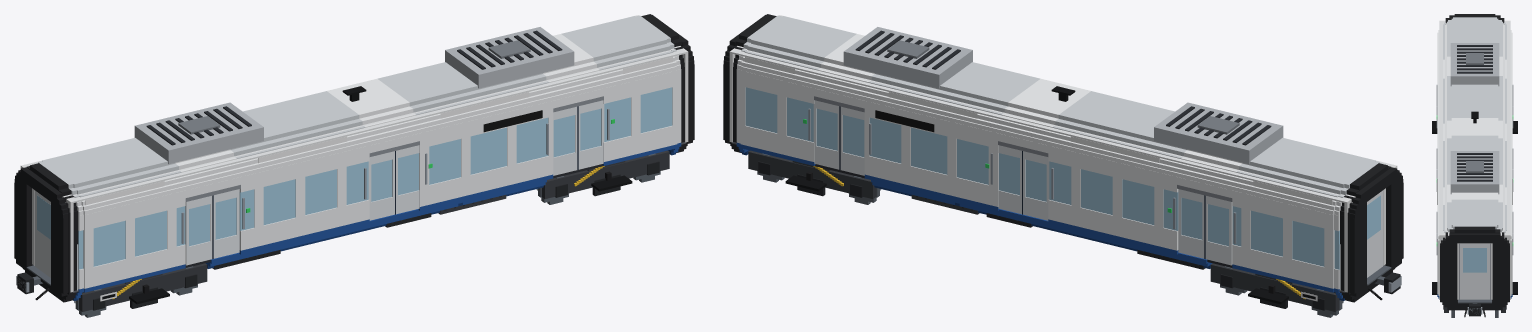
Rendered from azur_car.obj.
3 renders of one model, left to right at view 1: azimuth 30°, elevation 25°; view 2: azimuth 150°, elevation 25°; view 3: azimuth 270°, elevation 25°, orthographic. The views are drawn at different scales.
Parts seen in each view (by area): view 1: SHELL, SHELL_roof, SHELL_diaphragm, SHELL_ceiling, BOGEY_FRONT, BOGEY_REAR, EXTERNAL_DOOR_4_CG_DR1_TOGGLE_TL_-0.67_X, SHELL_ad, EXTERNAL_DOOR_10_CG_DR2_TOGGLE_TL_-0.67_X, EXTERNAL_DOOR_5_CG_DR1_TOGGLE_TL_0.67_X, EXTERNAL_DOOR_17_CG_DR3_TOGGLE_TL_0.67_X, EXTERNAL_DOOR_16_CG_DR3_TOGGLE_TL_-0.67_X (+6 smaller); view 2: SHELL, SHELL_roof, SHELL_diaphragm, SHELL_ceiling, BOGEY_FRONT, BOGEY_REAR, EXTERNAL_DOOR_7_CG_DL1_TOGGLE_TL_-0.67_X, SHELL_ad, EXTERNAL_DOOR_13_CG_DL2_TOGGLE_TL_-0.67_X, EXTERNAL_DOOR_8_CG_DL1_TOGGLE_TL_0.67_X, EXTERNAL_DOOR_20_CG_DL3_TOGGLE_TL_0.67_X, EXTERNAL_DOOR_19_CG_DL3_TOGGLE_TL_-0.67_X (+6 smaller); view 3: SHELL, SHELL_roof, SHELL_diaphragm, SHELL_ceiling, CONNECTING_DOOR_2_CG_CF_TOGGLE_TL_0.98_Z, SHELL_end, SHELL_handle, FRAME, BOGEY_FRONT, BOGEY_REAR, SHELL_gangway, SHELL_floor.
Boxes of the visible parts, left/top/right/bottom form: SHELL: left=23, top=14, right=689, bottom=302; SHELL_roof: left=134, top=27, right=574, bottom=164; SHELL_diaphragm: left=14, top=14, right=694, bottom=296; SHELL_ceiling: left=23, top=15, right=685, bottom=202; BOGEY_FRONT: left=541, top=150, right=669, bottom=198; BOGEY_REAR: left=79, top=263, right=207, bottom=311; EXTERNAL_DOOR_4_CG_DR1_TOGGLE_TL_-0.67_X: left=185, top=195, right=213, bottom=265; SHELL_ad: left=85, top=57, right=672, bottom=205; EXTERNAL_DOOR_10_CG_DR2_TOGGLE_TL_-0.67_X: left=368, top=151, right=395, bottom=220; EXTERNAL_DOOR_5_CG_DR1_TOGGLE_TL_0.67_X: left=213, top=189, right=239, bottom=258; EXTERNAL_DOOR_17_CG_DR3_TOGGLE_TL_0.67_X: left=578, top=100, right=604, bottom=169; EXTERNAL_DOOR_16_CG_DR3_TOGGLE_TL_-0.67_X: left=553, top=106, right=578, bottom=175; SHELL: left=728, top=14, right=1394, bottom=302; SHELL_roof: left=843, top=27, right=1283, bottom=164; SHELL_diaphragm: left=723, top=14, right=1403, bottom=296; SHELL_ceiling: left=732, top=15, right=1394, bottom=202; BOGEY_FRONT: left=748, top=150, right=876, bottom=198; BOGEY_REAR: left=1210, top=263, right=1338, bottom=311; EXTERNAL_DOOR_7_CG_DL1_TOGGLE_TL_-0.67_X: left=1204, top=195, right=1232, bottom=265; SHELL_ad: left=745, top=57, right=1332, bottom=205; EXTERNAL_DOOR_13_CG_DL2_TOGGLE_TL_-0.67_X: left=1022, top=151, right=1049, bottom=220; EXTERNAL_DOOR_8_CG_DL1_TOGGLE_TL_0.67_X: left=1178, top=189, right=1204, bottom=258; EXTERNAL_DOOR_20_CG_DL3_TOGGLE_TL_0.67_X: left=813, top=100, right=839, bottom=169; EXTERNAL_DOOR_19_CG_DL3_TOGGLE_TL_-0.67_X: left=839, top=106, right=864, bottom=175; SHELL: left=1437, top=14, right=1512, bottom=310; SHELL_roof: left=1450, top=43, right=1499, bottom=194; SHELL_diaphragm: left=1440, top=15, right=1509, bottom=304; SHELL_ceiling: left=1439, top=21, right=1510, bottom=234; CONNECTING_DOOR_2_CG_CF_TOGGLE_TL_0.98_Z: left=1460, top=243, right=1489, bottom=299; SHELL_end: left=1439, top=20, right=1510, bottom=299; SHELL_handle: left=1436, top=85, right=1513, bottom=254; FRAME: left=1464, top=303, right=1485, bottom=317; BOGEY_FRONT: left=1432, top=282, right=1517, bottom=312; BOGEY_REAR: left=1432, top=121, right=1517, bottom=133; SHELL_gangway: left=1458, top=298, right=1491, bottom=302; SHELL_floor: left=1459, top=243, right=1490, bottom=298.
Size of the model in its own units: 18.14 by 3.91 by 2.84.
1 material, 1 textured.
